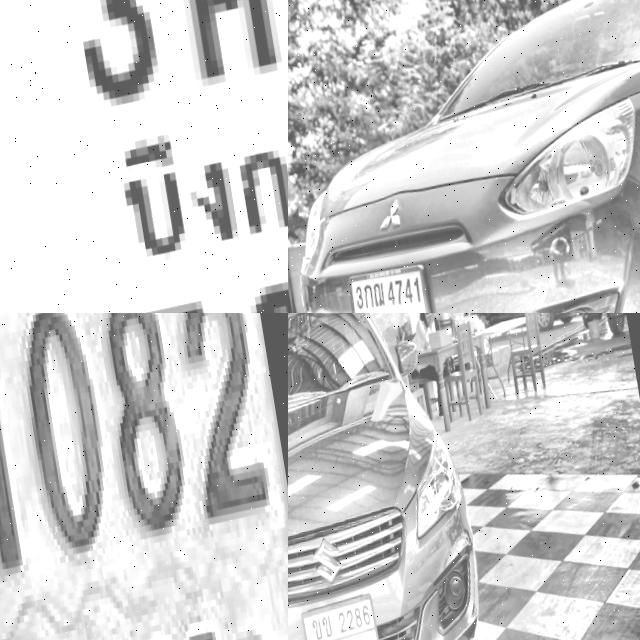license-plate: (0, 313, 288, 640), (0, 0, 288, 313), (347, 255, 435, 313), (298, 597, 381, 640)
